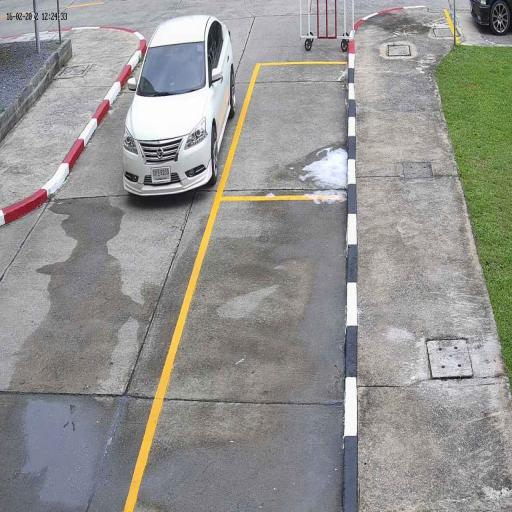car: (122, 15, 237, 198)
